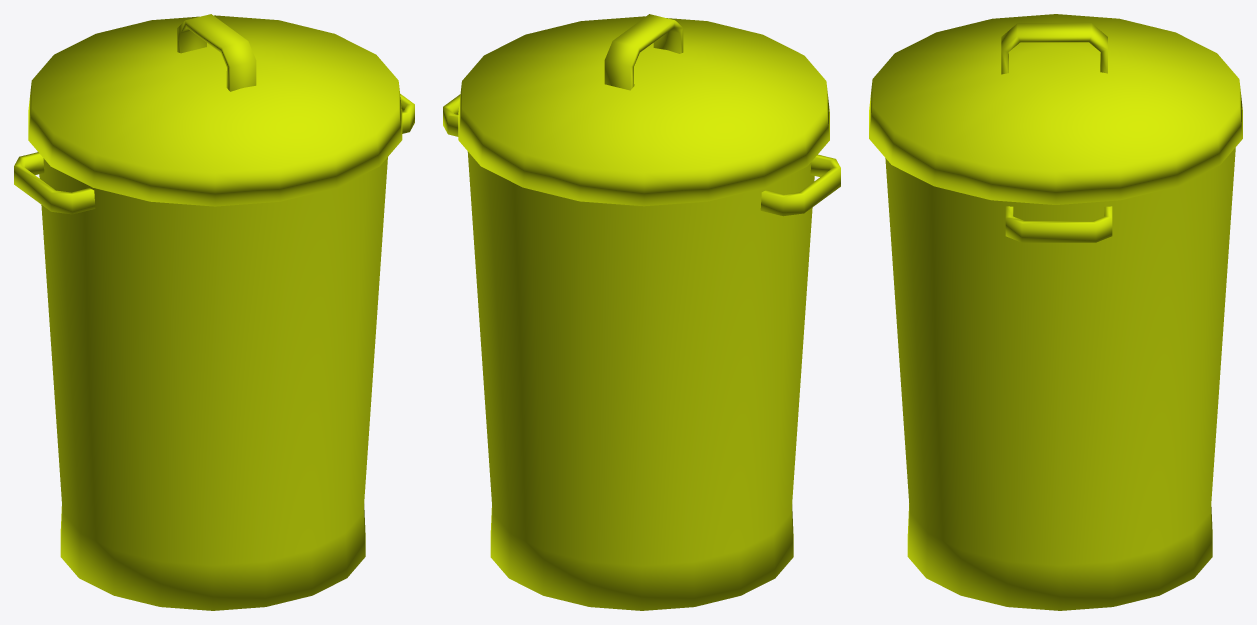
File: ObstacleBinNight.glb
3 renders of one model, left to right at view 1: azimuth 30°, elevation 25°; view 2: azimuth 150°, elevation 25°; view 3: azimuth 270°, elevation 25°, orthographic.
Visible parts, largest first — view 1: BinBaseNight, BinTopNight; view 2: BinBaseNight, BinTopNight; view 3: BinBaseNight, BinTopNight.
Part boxes in pixels (box(x1,y1,x2,y2)): BinBaseNight: box(14, 93, 414, 610); BinTopNight: box(28, 14, 402, 206); BinBaseNight: box(443, 94, 840, 610); BinTopNight: box(458, 14, 829, 206); BinBaseNight: box(885, 147, 1235, 610); BinTopNight: box(869, 14, 1242, 204).
Size of the model in its own units: 1.22 by 1.66 by 1.09.
1 material, 1 textured.
